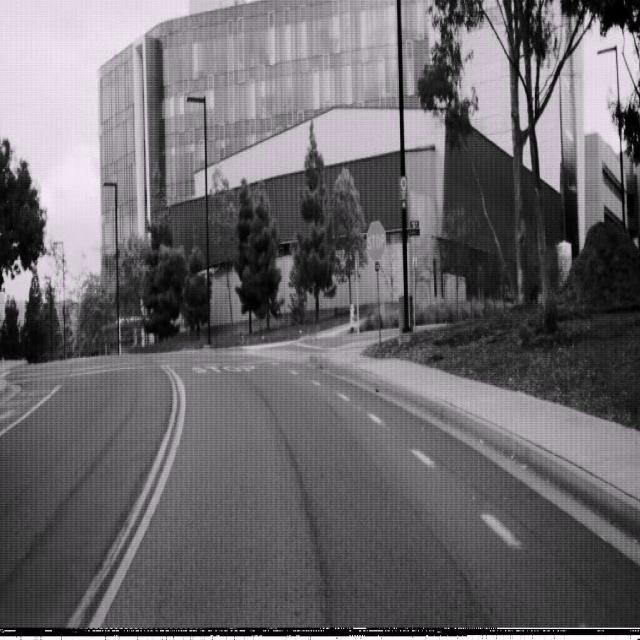stop_sign: (365, 220, 386, 261)
